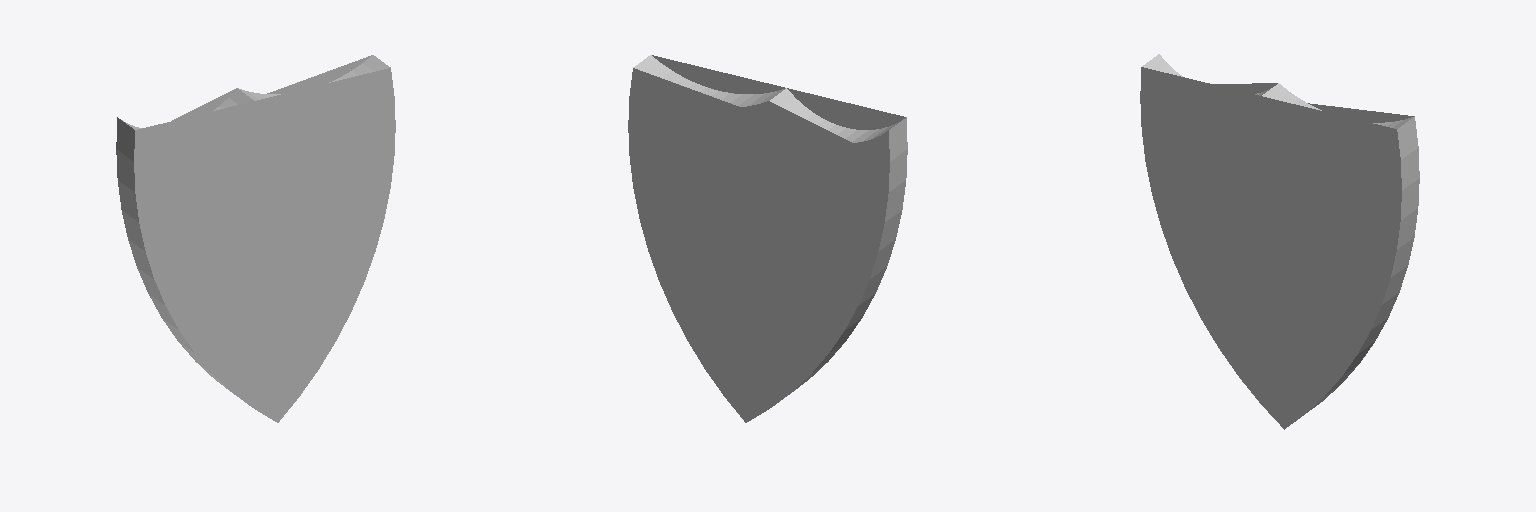
Rendered from shield.obj.
3 renders of one model, left to right at view 1: azimuth 30°, elevation 25°; view 2: azimuth 150°, elevation 25°; view 3: azimuth 330°, elevation 25°, orthographic.
Parts seen in each view (by area): view 1: Mesh1 Model; view 2: Mesh1 Model; view 3: Mesh1 Model.
Boxes of the visible parts, x1=… form: Mesh1 Model: x1=116, y1=55, x2=395, y2=422; Mesh1 Model: x1=628, y1=55, x2=907, y2=422; Mesh1 Model: x1=1140, y1=54, x2=1419, y2=429.
Bounding box in the file's own units: 186 × 222 × 21.83.